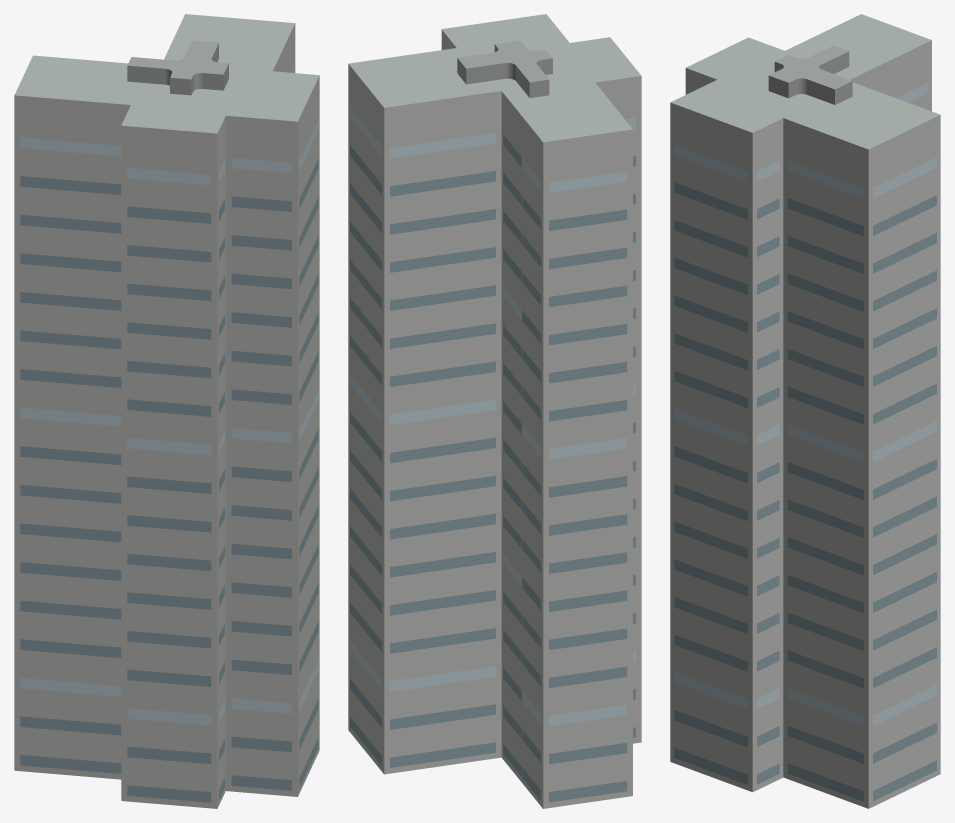
File: fallback-dmc-raemian-e-pyeonhansesang-301.glb
3 views of the same model, side by side, from view 1: azimuth 30°, elevation 25°; view 2: azimuth 150°, elevation 25°; view 3: azimuth 270°, elevation 25° (orthographic). The views are drawn at different scales.
Visible parts, largest first — view 1: fallback-dmc-raemian-e-pyeonhansesang-301; view 2: fallback-dmc-raemian-e-pyeonhansesang-301; view 3: fallback-dmc-raemian-e-pyeonhansesang-301.
Part boxes in pixels (left/top/right/bottom): fallback-dmc-raemian-e-pyeonhansesang-301: left=14, top=14, right=319, bottom=808; fallback-dmc-raemian-e-pyeonhansesang-301: left=348, top=14, right=641, bottom=808; fallback-dmc-raemian-e-pyeonhansesang-301: left=670, top=14, right=940, bottom=808.
Size of the model in its own units: 44.8 by 104 by 37.78.
